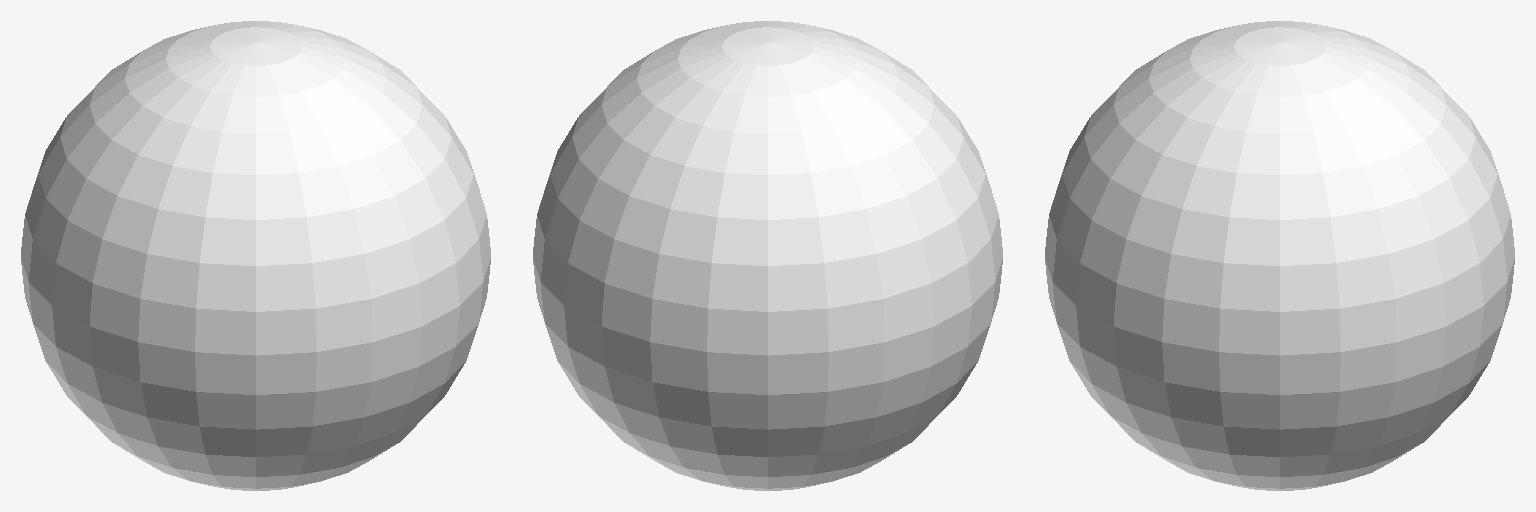
3 renders of one model, left to right at view 1: azimuth 30°, elevation 25°; view 2: azimuth 150°, elevation 25°; view 3: azimuth 270°, elevation 25°, orthographic.
Visible parts, largest first — view 1: Sphere; view 2: Sphere; view 3: Sphere.
Part boxes in pixels (x1,y1,x2,y2): Sphere: (21,21,490,490); Sphere: (533,21,1002,490); Sphere: (1045,21,1514,490).
Size of the model in its own units: 2 by 2 by 2.
1 materials, 1 textured.